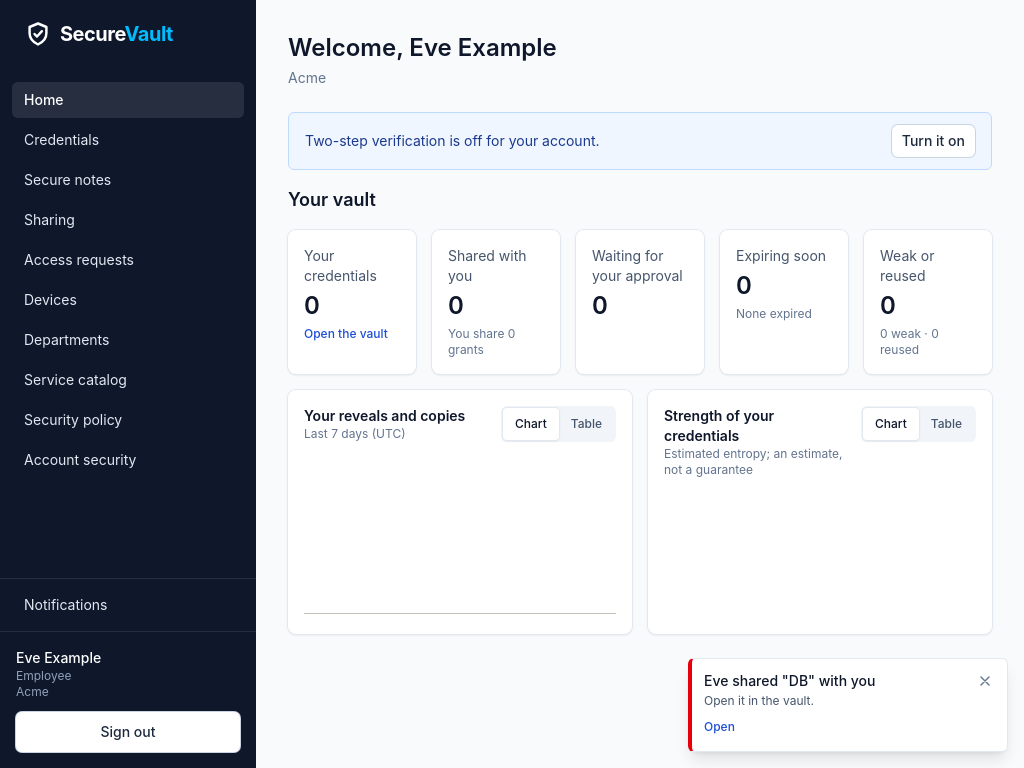
notification toasts › Open goes to the destination, removes the toast and marks that notification read
The width and height of the screenshot is (1024, 768).
Check: the heading "Welcome, Eve Example" is shown, box top-left (288, 32), bottom-right (557, 64)
Click the link "Open": (719, 727) top-left (704, 715), bottom-right (735, 739)
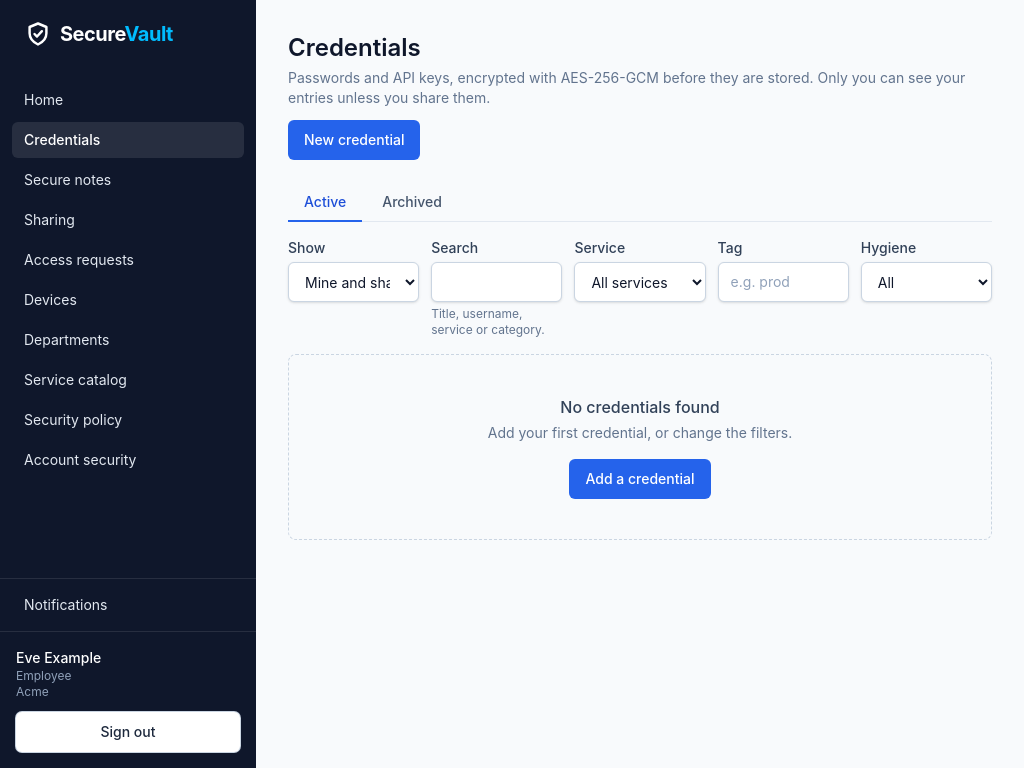
Check: the heading "Credentials" is shown, box top-left (288, 33), bottom-right (421, 62)
Check: the text "Eve shared \"DB\" with you" is gone
